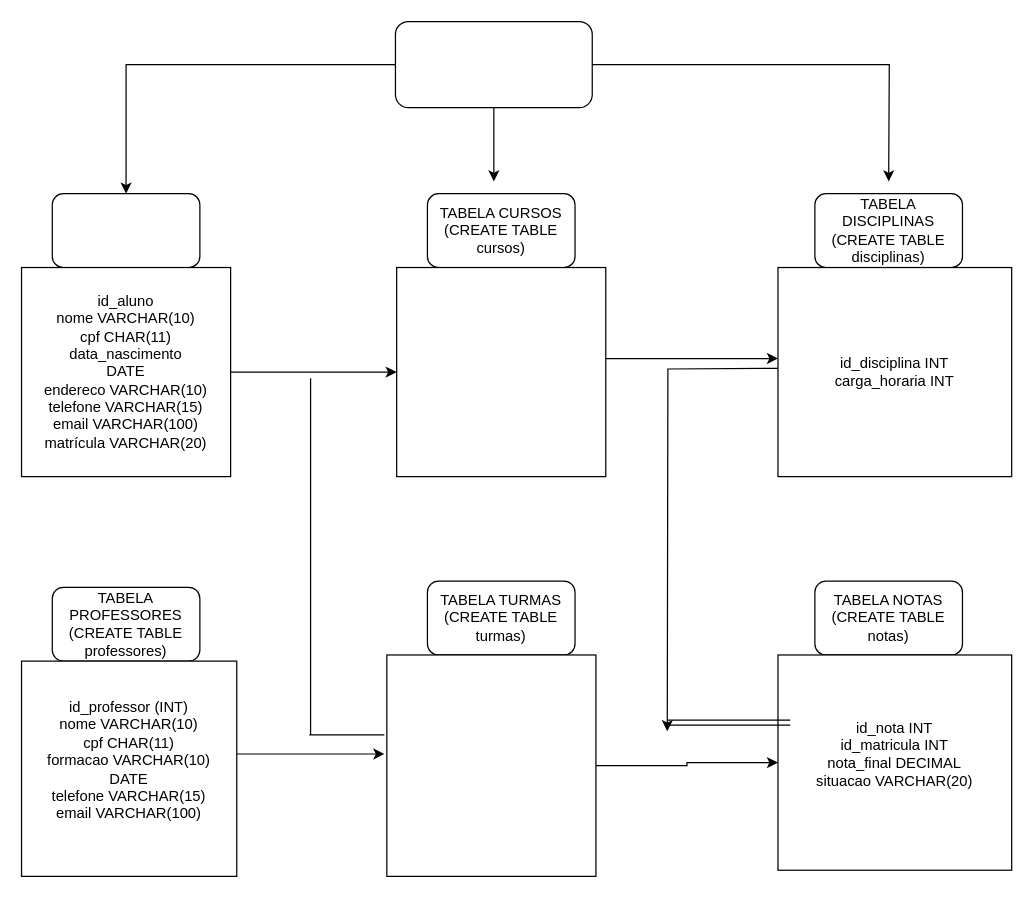
This 1033x898 diagram has some shape labels left out. Here are the shapes that lost their labels. From the top down, the centre of each, then its label:
At pixel 493 64: "CRIAÇÃO DO BANCO DE DADOS ( CREATE DATABASE faculdade; USE faculdade;)".
At pixel 125 230: "TABELA ALUNOS (CREATE TABLE alunos)".
At pixel 500 371: "id_curso INT nome VARCHAR (100) duracao INT grau VARCHAR(30)".
At pixel 491 765: "id_turma INT id_disciplina INT id_professor INT periodo VARCHAR(20)".
